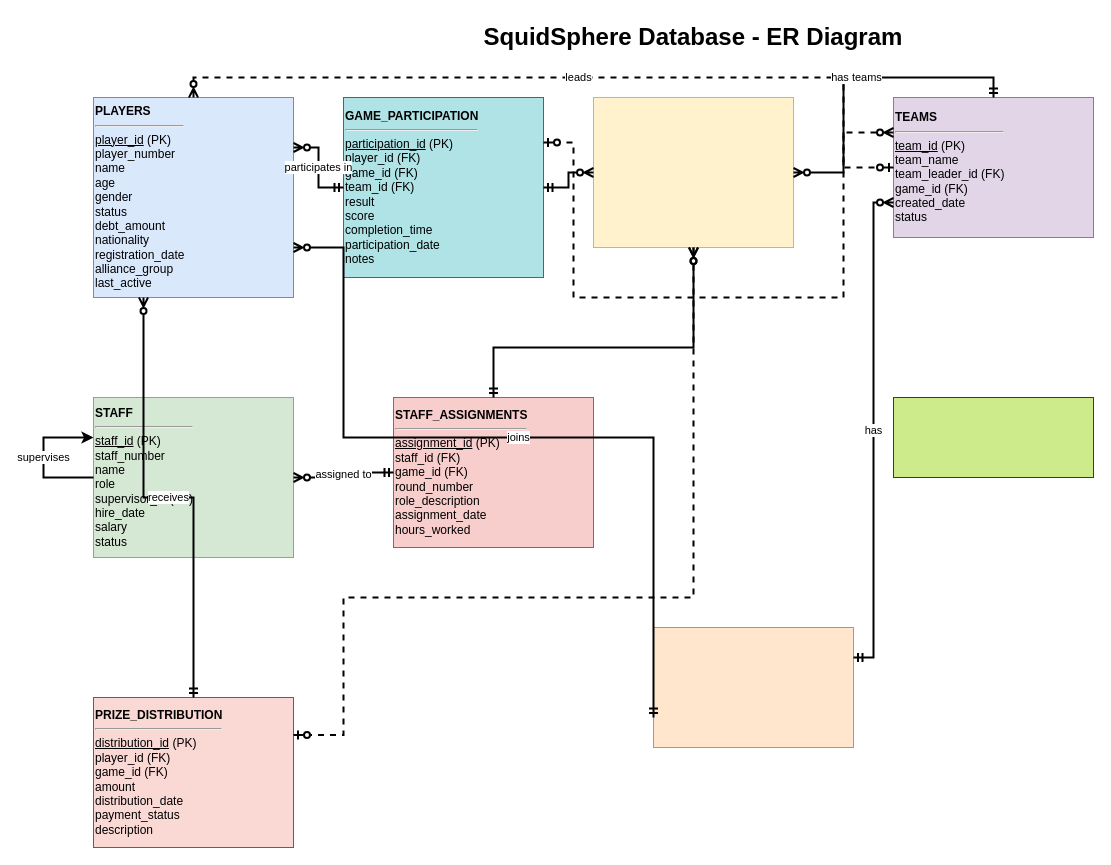
Some shapes in this 1111 by 865 pixel diagram are drawn without their labels. The centre of each missing label's shape, as x and y in pixels:
"COMPLETED_ROUNDS round_number (PK) completed_at" goes at (993,437).
"GAMES game_id (PK) game_name game_type max_players description created_at" goes at (693,172).
"TEAM_MEMBERS team_member_id (PK) team_id (FK) player_id (FK) join_date role" goes at (753,687).
